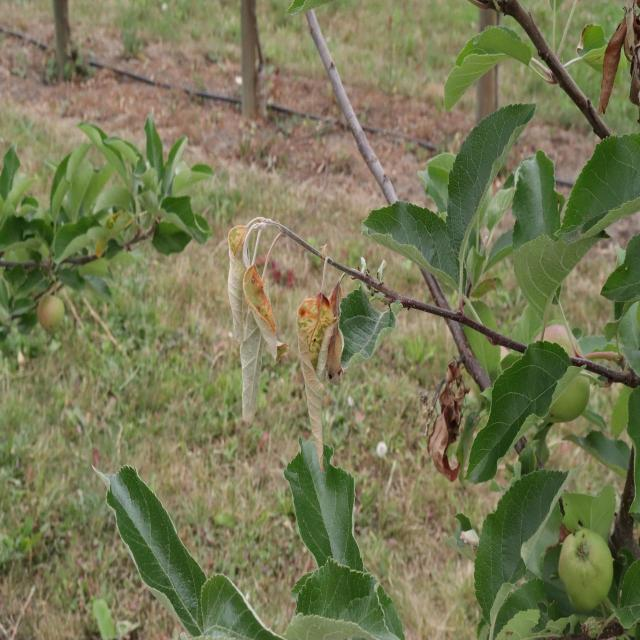-FireBlight-: (286, 252, 340, 464), (230, 212, 280, 421), (432, 372, 461, 471)
